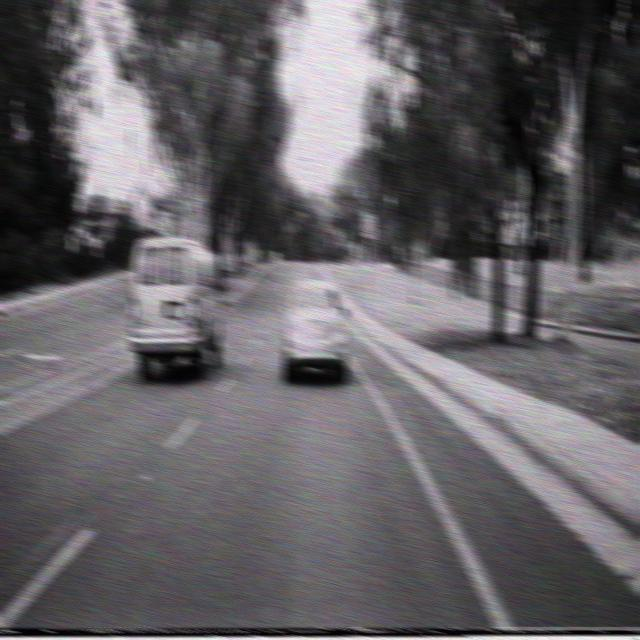speedLimit45: (362, 211, 376, 239)
